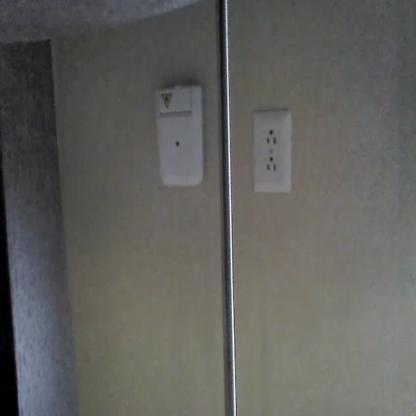OUTLET: (254, 108, 291, 194)
